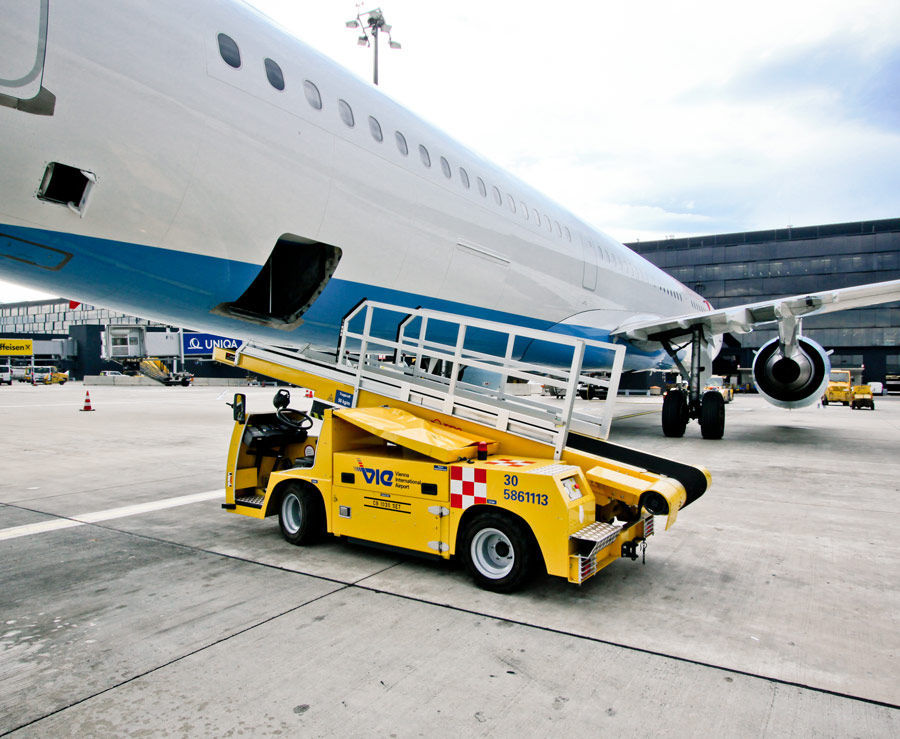baggageTruck: (194, 295, 718, 599)
